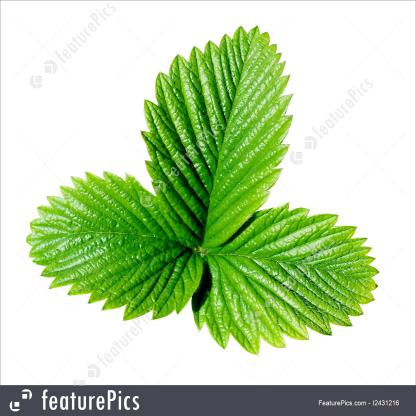strawberry leaf: (139, 14, 291, 252), (184, 195, 385, 357), (16, 167, 207, 324)
